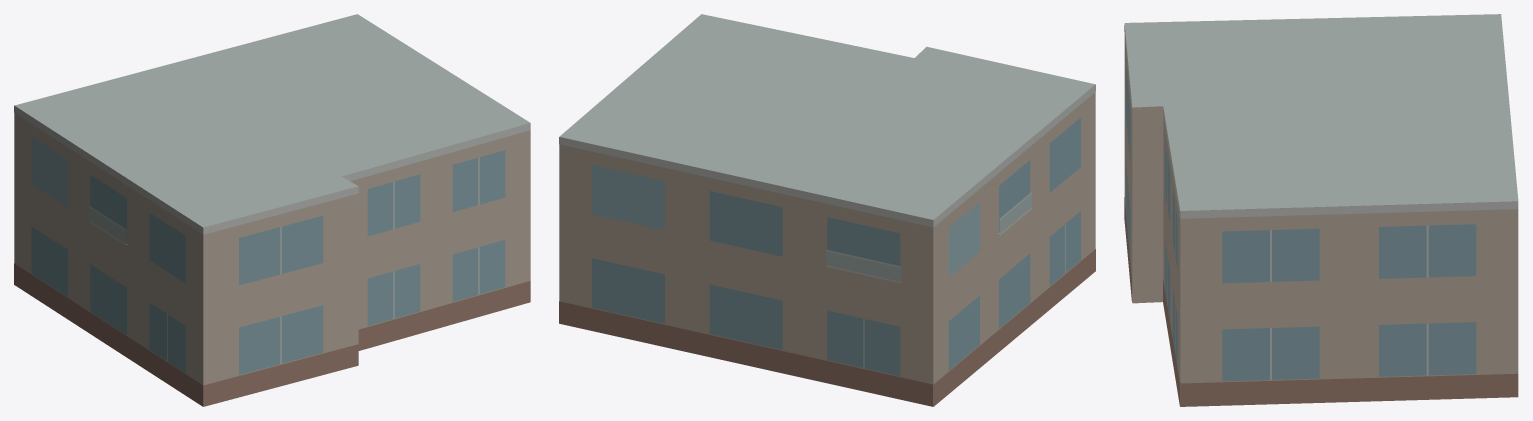
File: survey-upis-32723775.glb
3 views of the same model, side by side, from view 1: azimuth 30°, elevation 25°; view 2: azimuth 150°, elevation 25°; view 3: azimuth 270°, elevation 25° (orthographic). The views are drawn at different scales.
Parts seen in each view (by area): view 1: survey-upis-32723775.tmp; view 2: survey-upis-32723775.tmp; view 3: survey-upis-32723775.tmp.
Part boxes in pixels (box(x1,y1,x2,y2)): survey-upis-32723775.tmp: box(14, 14, 530, 406); survey-upis-32723775.tmp: box(559, 14, 1095, 406); survey-upis-32723775.tmp: box(1124, 14, 1518, 406).
Size of the model in its own units: 13.17 by 6.1 by 11.13.
